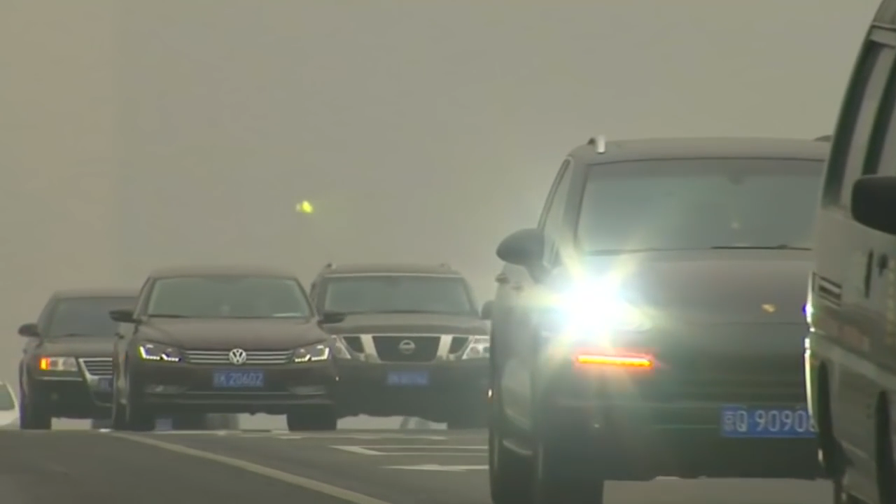car: (483, 133, 896, 504), (797, 2, 892, 504), (105, 263, 343, 437), (298, 259, 500, 437), (15, 285, 214, 434)
